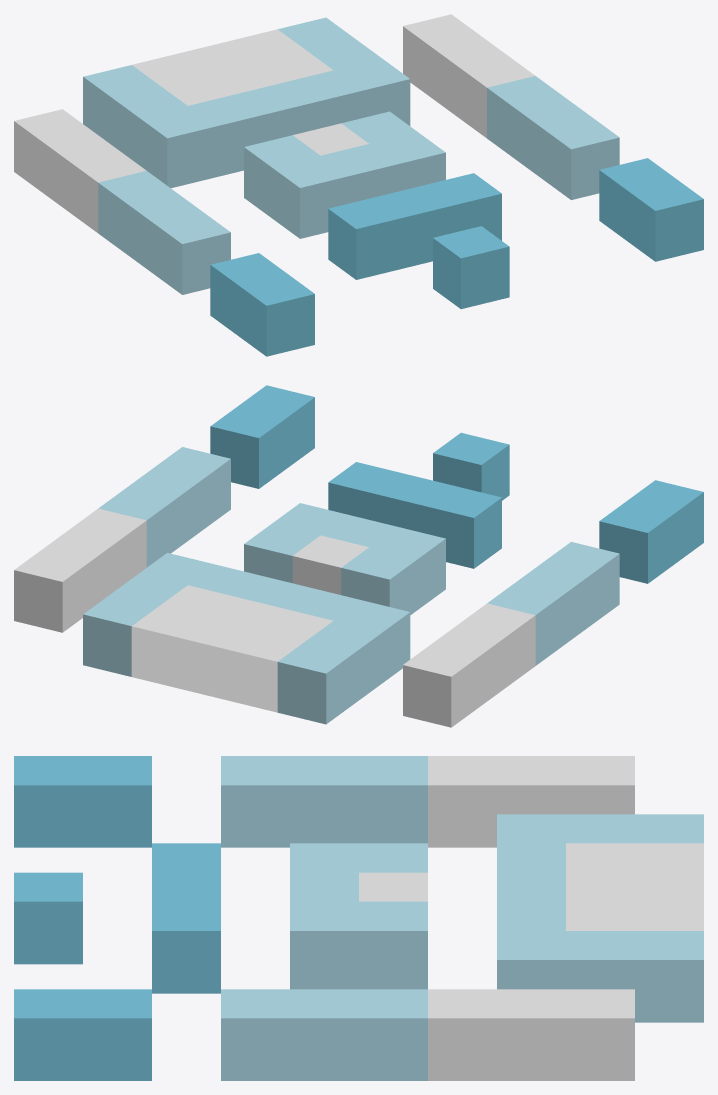
The model's file is fx_swiftarrows.glb.
3 views of the same model, one above another, from view 1: azimuth 30°, elevation 25°; view 2: azimuth 150°, elevation 25°; view 3: azimuth 270°, elevation 25° (orthographic). The views are drawn at different scales.
Visible parts, largest first — view 1: slabs, streak_L, streak_R; view 2: slabs, streak_L, streak_R; view 3: slabs, streak_R, streak_L.
Boxes of the visible parts, box(x1,y1,x2,y2) form: slabs: box(83, 17, 509, 309); streak_L: box(14, 109, 314, 356); streak_R: box(403, 14, 703, 261); slabs: box(83, 432, 509, 724); streak_L: box(403, 480, 703, 727); streak_R: box(14, 385, 314, 632); slabs: box(14, 814, 703, 1022); streak_R: box(14, 989, 634, 1080); streak_L: box(14, 756, 634, 847).
Bounding box in the file's own units: 9 × 1 × 10.
